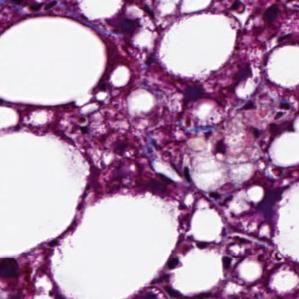inflammation: (211, 226, 272, 269), (169, 75, 228, 112)
